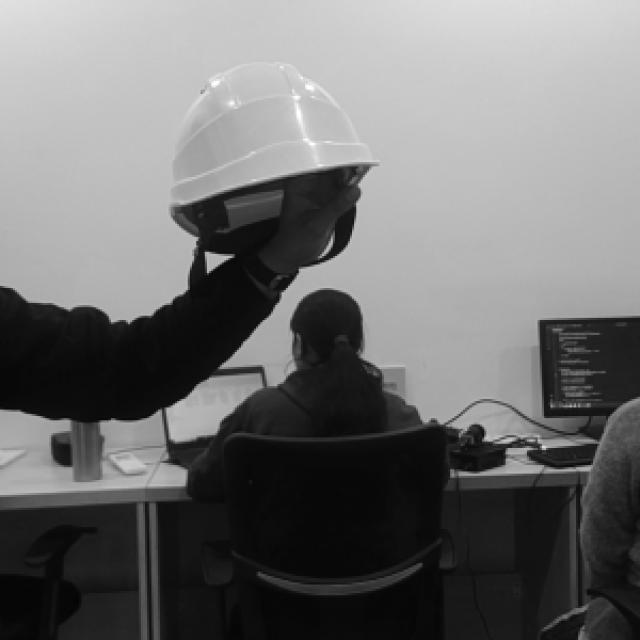safety_helmet: (170, 61, 378, 216)
